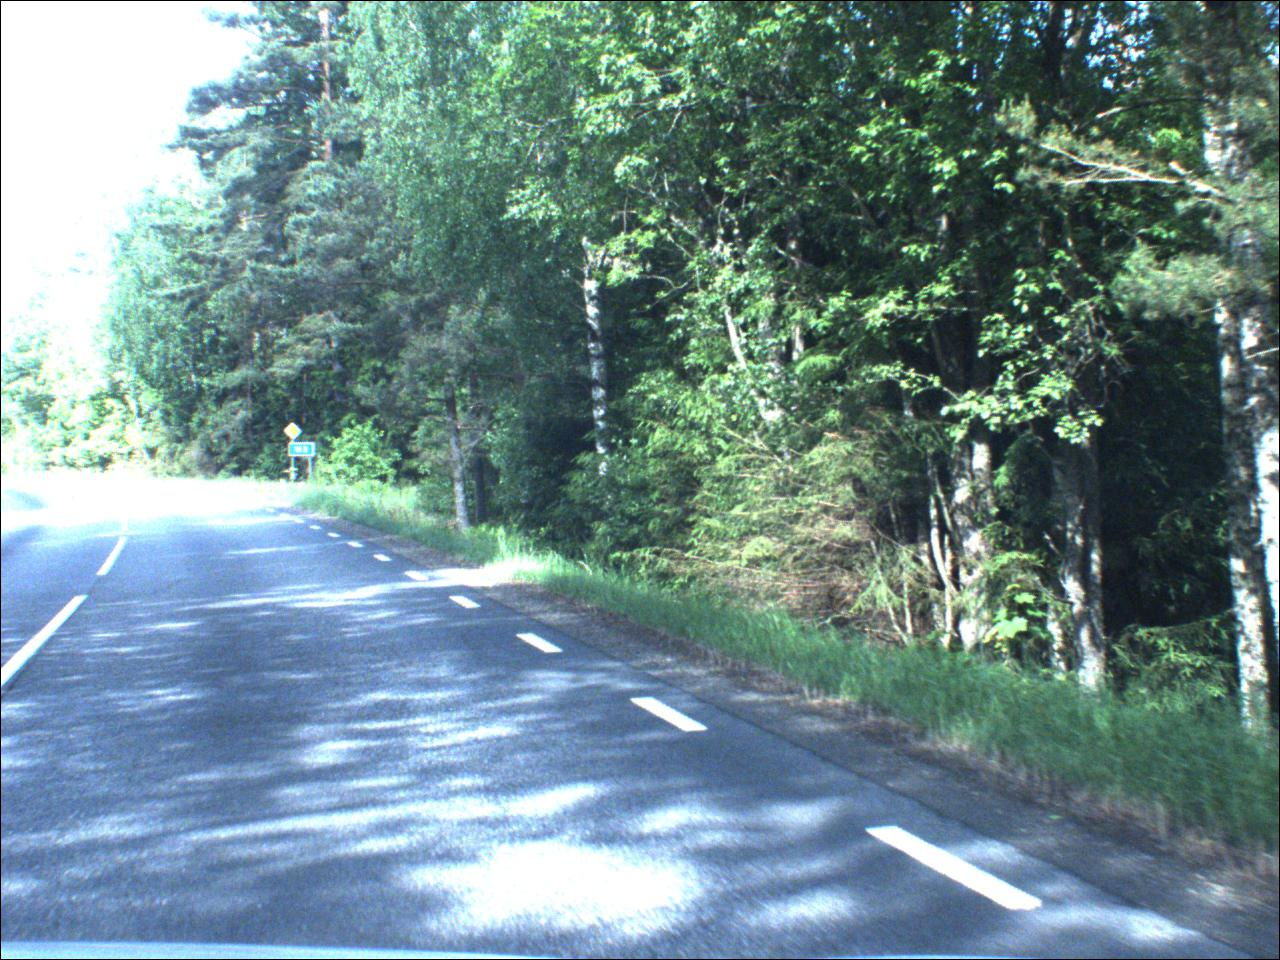PRIORITY_ROAD: (285, 422, 306, 442)
